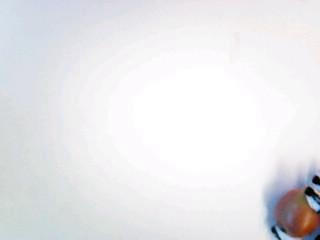apple: (274, 183, 320, 235)
